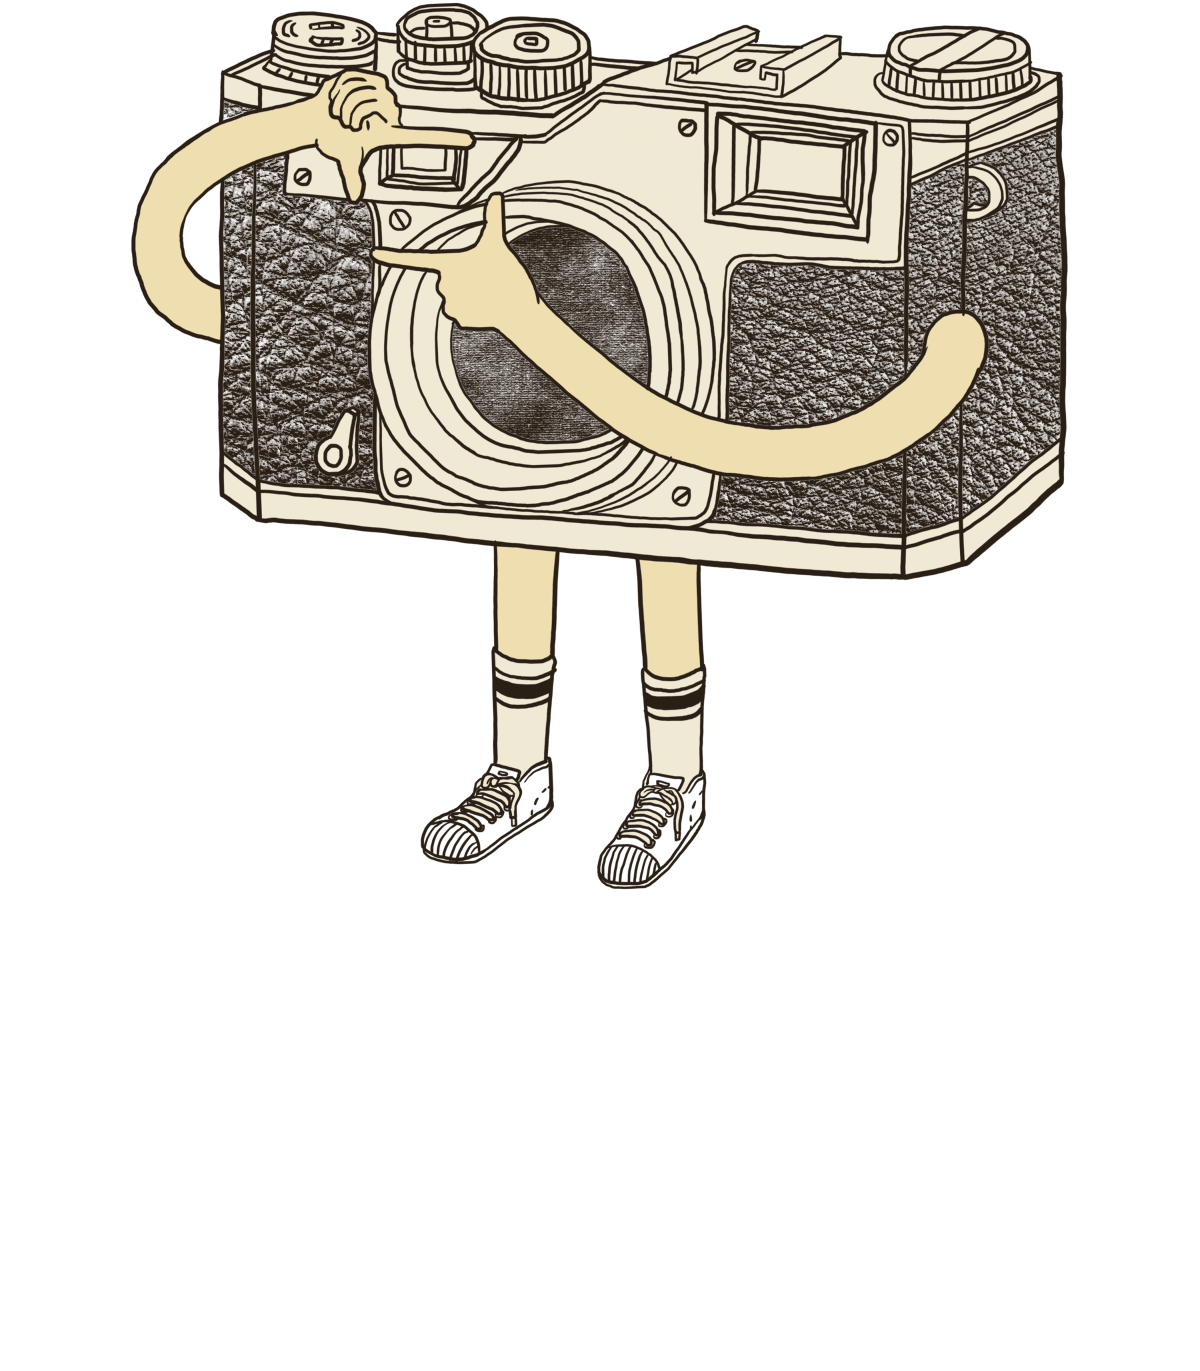design: (120, 3, 1086, 911)
